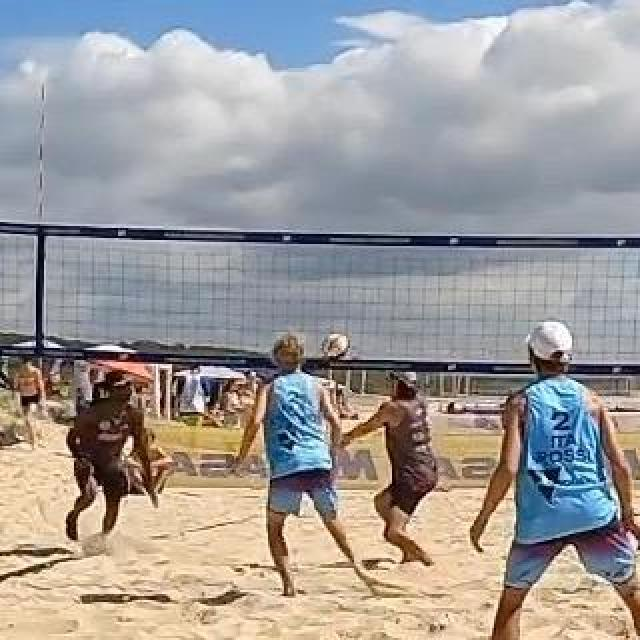volleyball: (324, 334, 348, 358)
